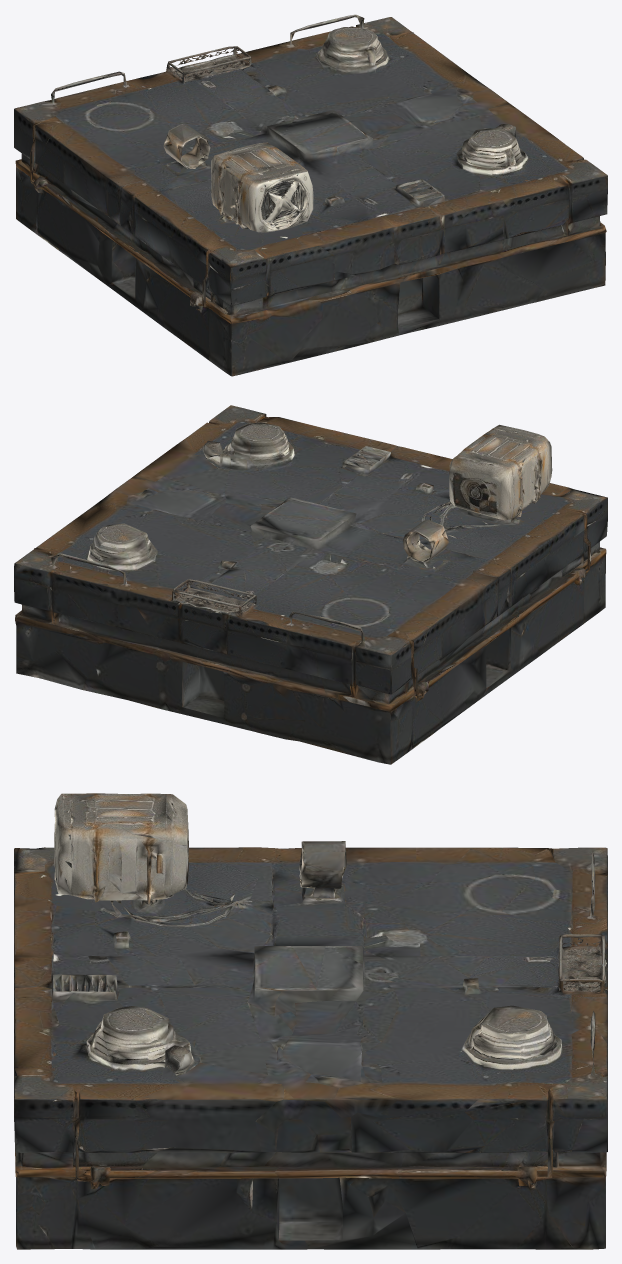
The model's file is bsRoof.26af4ba5.glb.
The picture shows the model from 3 angles, top to bottom: view 1: azimuth 30°, elevation 25°; view 2: azimuth 150°, elevation 25°; view 3: azimuth 270°, elevation 25°; orthographic projection. The views are drawn at different scales.
Size of the model in its own units: 1.9 by 0.802 by 1.82.
1 material, 1 textured.
